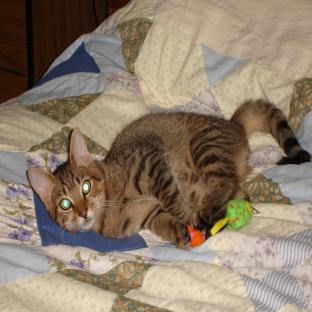Animal: (28, 100, 310, 249)
